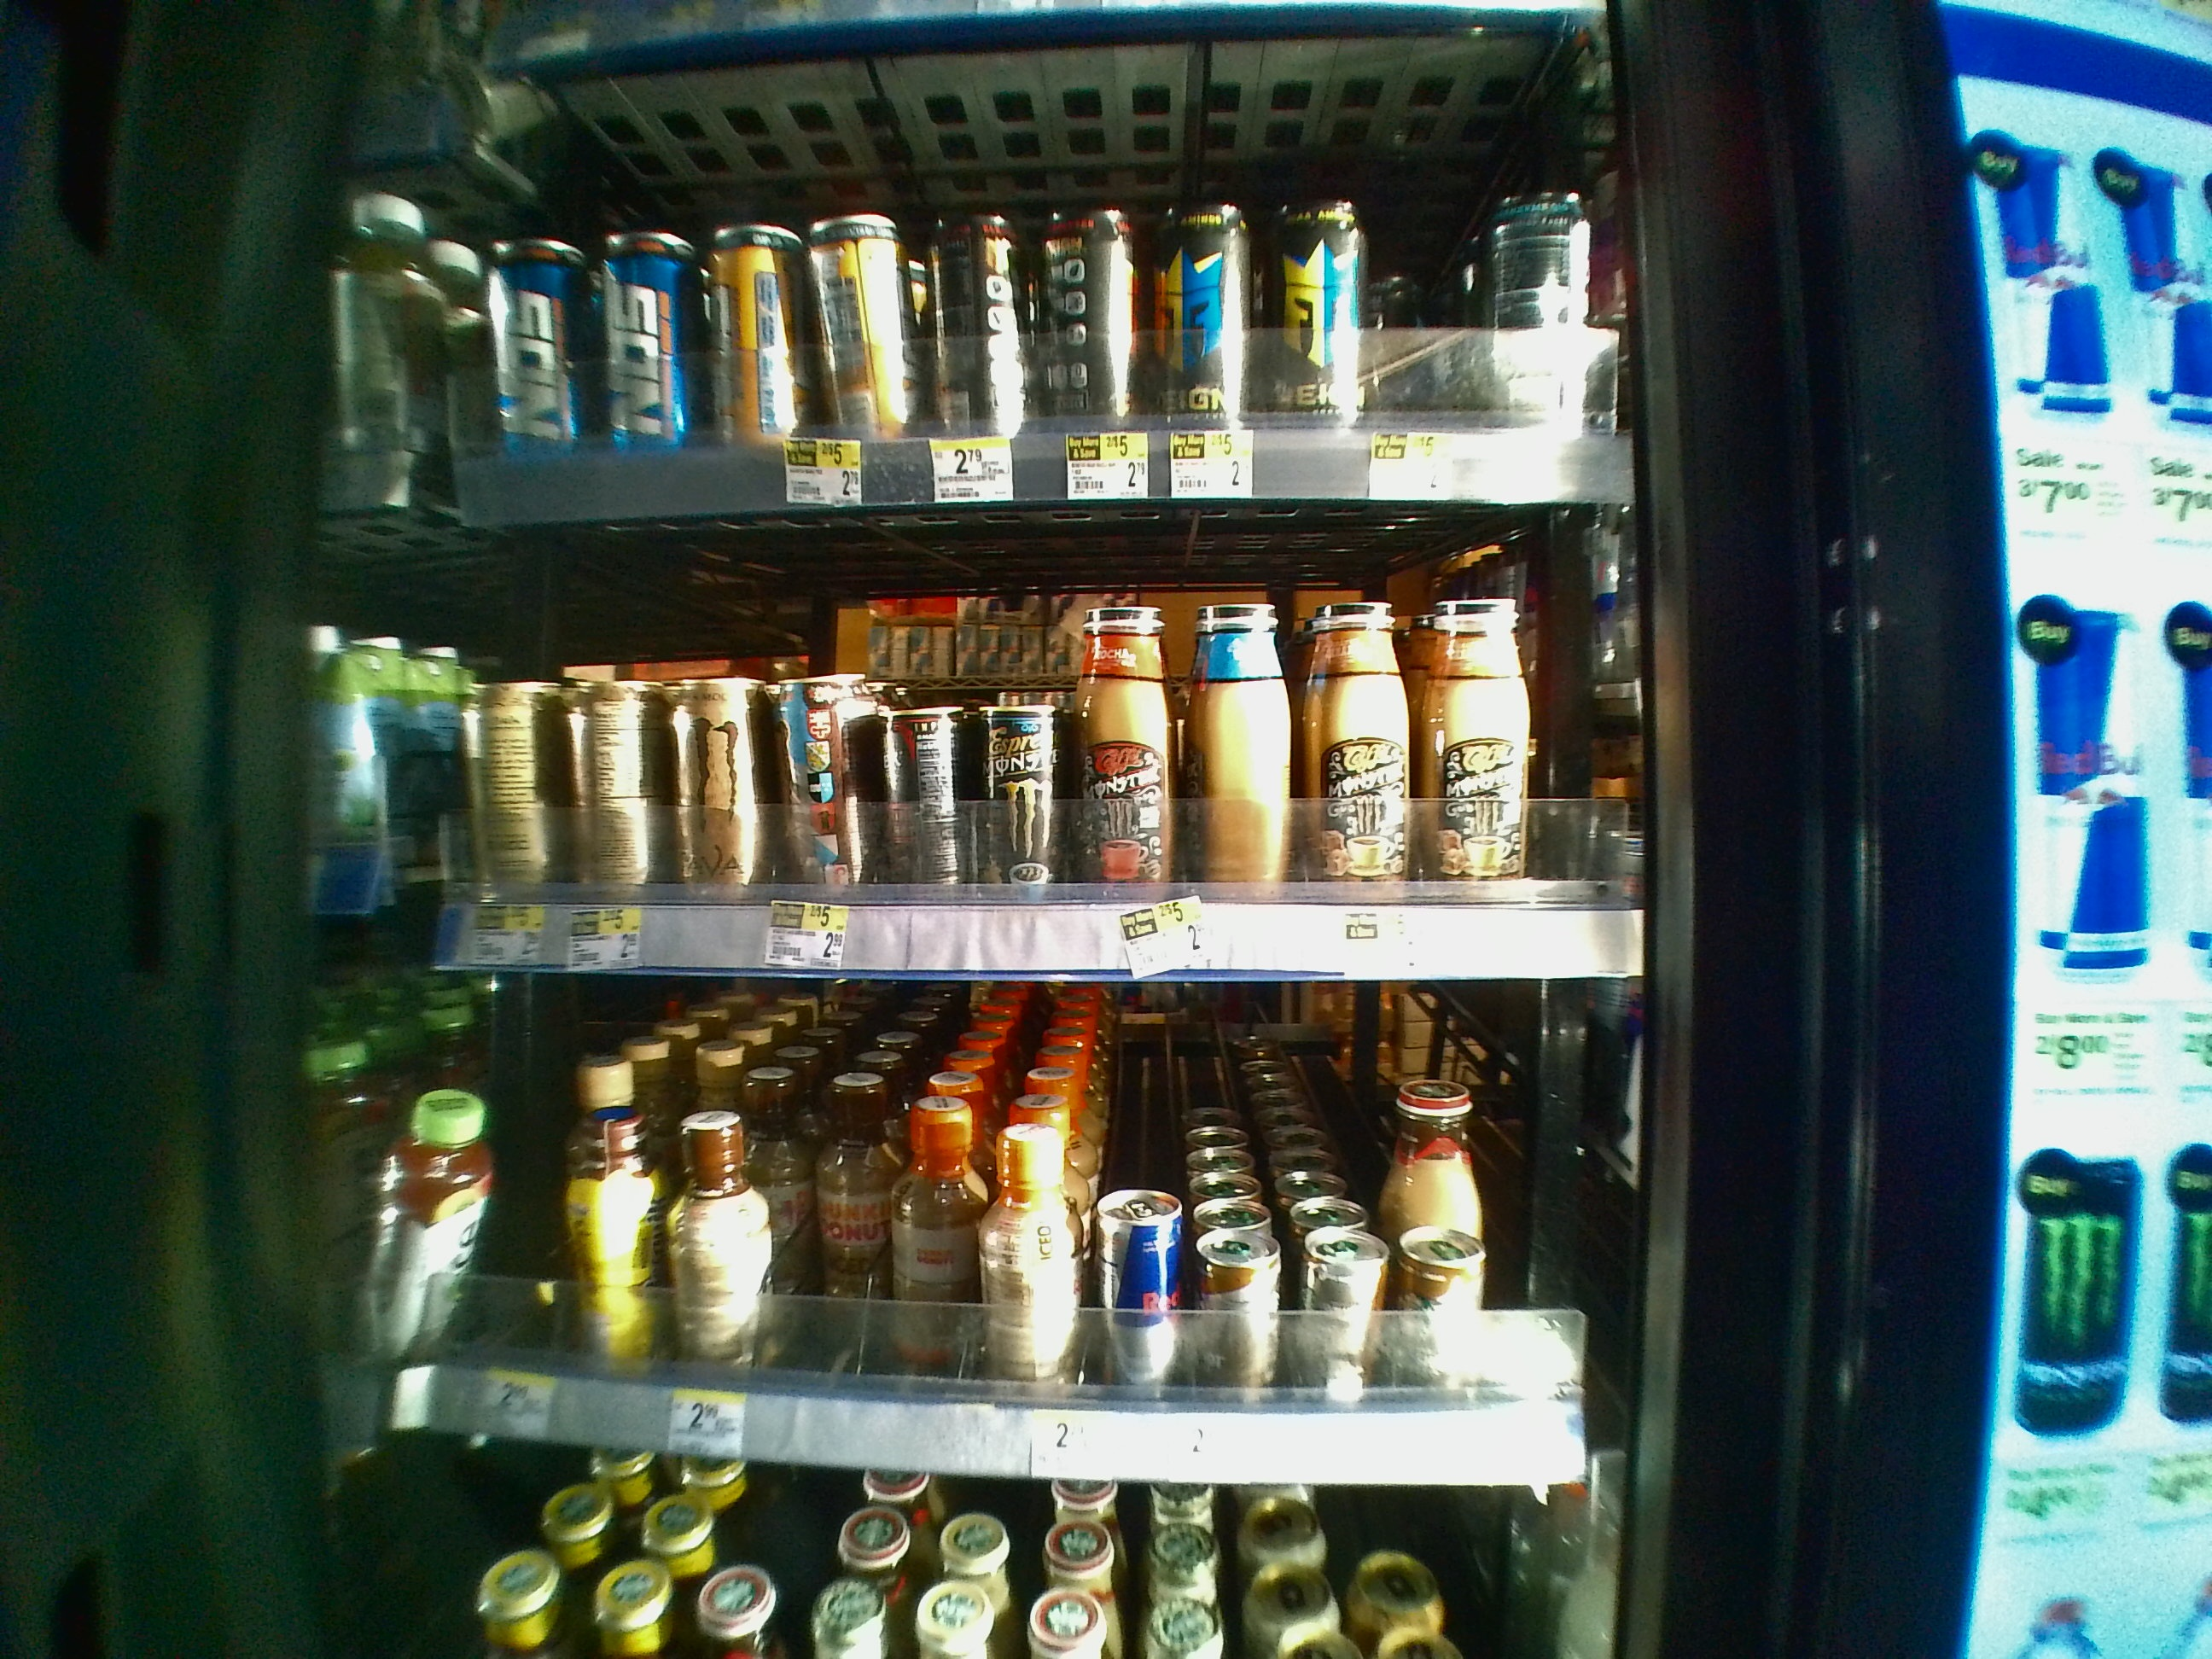shelf: (298, 981, 1669, 1480), (314, 512, 1658, 979)
